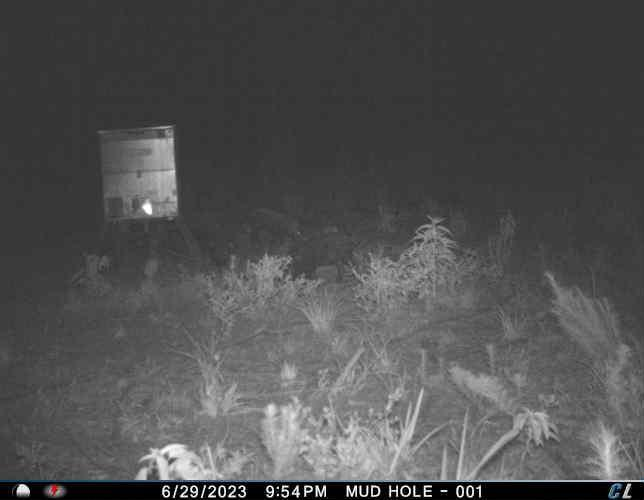Hog: (289, 229, 360, 284), (246, 204, 300, 252)
